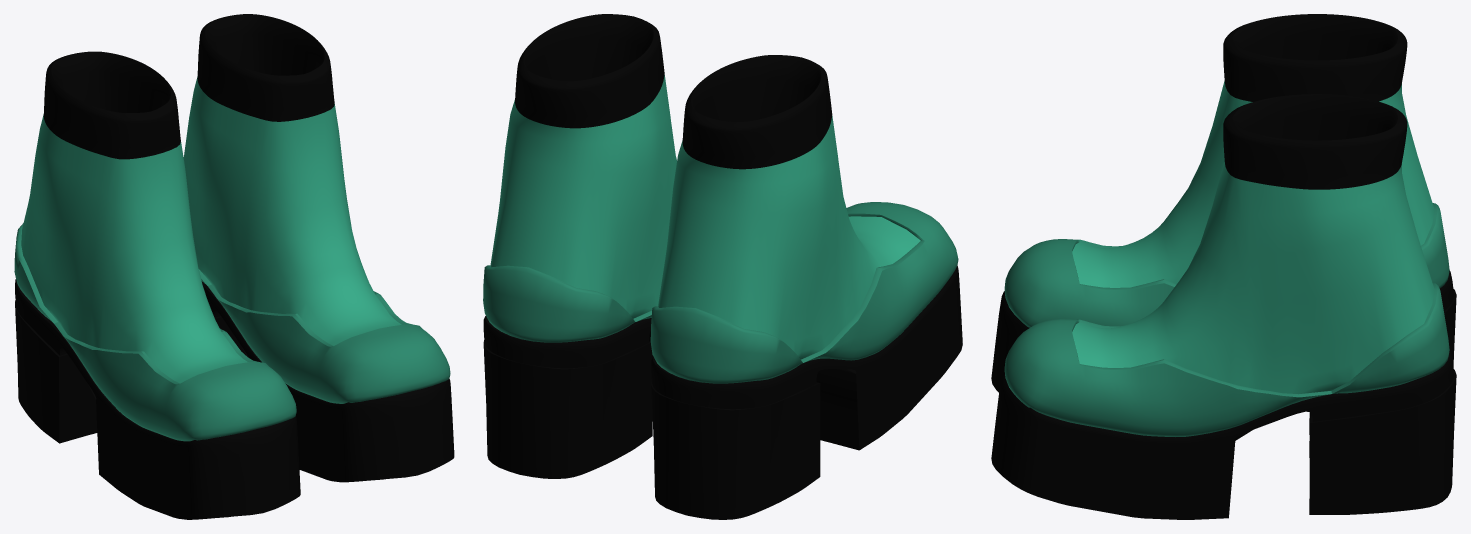
The picture shows the model from 3 angles, left to right: view 1: azimuth 30°, elevation 25°; view 2: azimuth 150°, elevation 25°; view 3: azimuth 270°, elevation 25°; orthographic projection. The views are drawn at different scales.
Visible parts, largest first — view 1: Cube.004, Cube.002; view 2: Cube.004, Cube.002; view 3: Cube.002, Cube.004.
Part boxes in pixels (x1,y1,x2,y2): Cube.004: [14, 51, 300, 519]; Cube.002: [183, 14, 454, 482]; Cube.004: [650, 55, 962, 519]; Cube.002: [483, 14, 676, 478]; Cube.002: [991, 94, 1456, 519]; Cube.004: [991, 14, 1456, 434].
Size of the model in its own units: 199 by 243 by 273.
